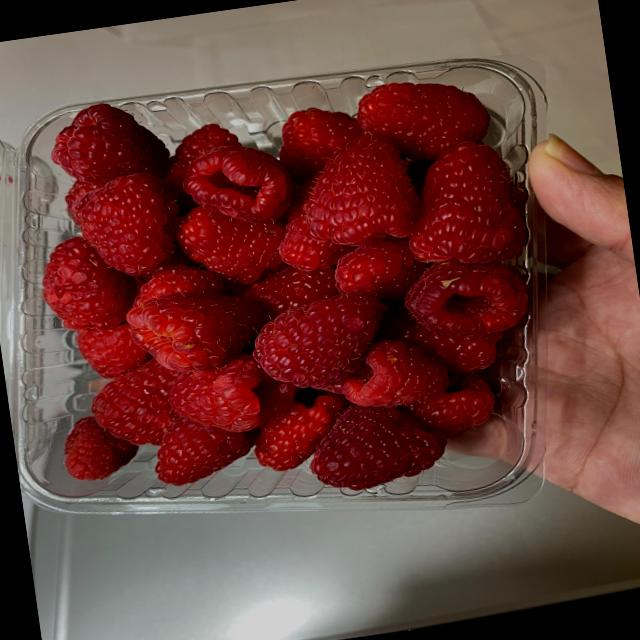raspberries: (18, 60, 546, 532)
